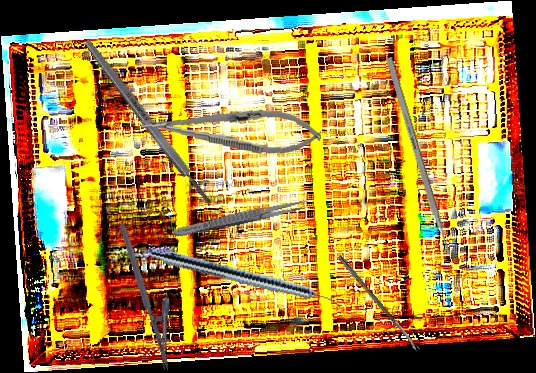Dressing Forceps: (171, 195, 311, 241)
Handpiece: (148, 246, 344, 312)
Needle Holder: (118, 216, 190, 373), (139, 99, 323, 159)
Pusher: (384, 56, 458, 272)
Scalpel Handle: (81, 36, 215, 208)
Surgical Spoon: (337, 254, 420, 353)
